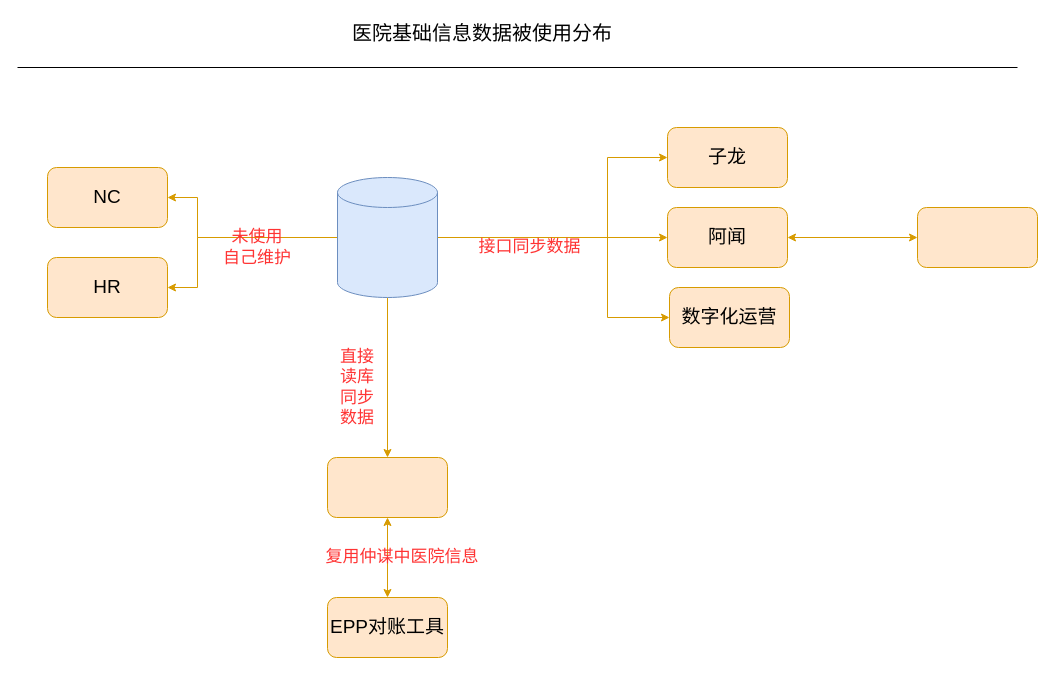
Some shapes in this 1055 by 675 pixel diagram are drawn without their labels. The shapes that lost their labels are listed below. From the top down, each one's centre as x and y in pixels, then its label:
At [387,237]: "医院基础信息 (ACP统一维护)".
At [977,237]: "本地生活".
At [387,487]: "仲谋".
